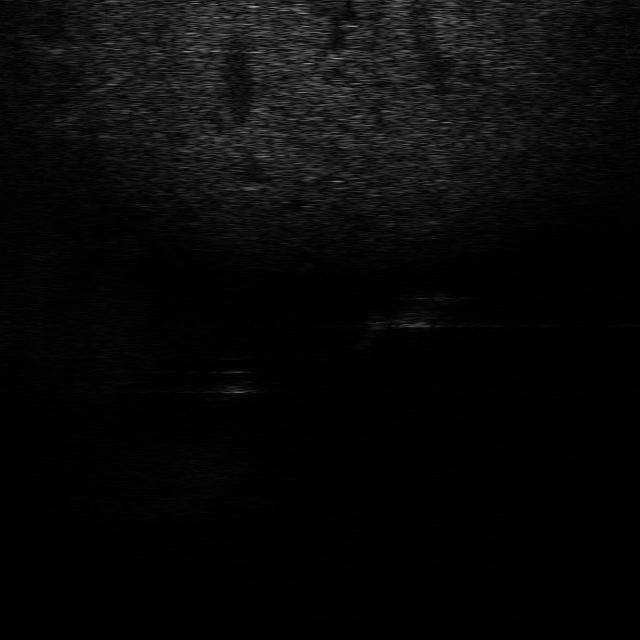ball: (209, 366, 260, 398)
human body: (355, 288, 457, 344)
